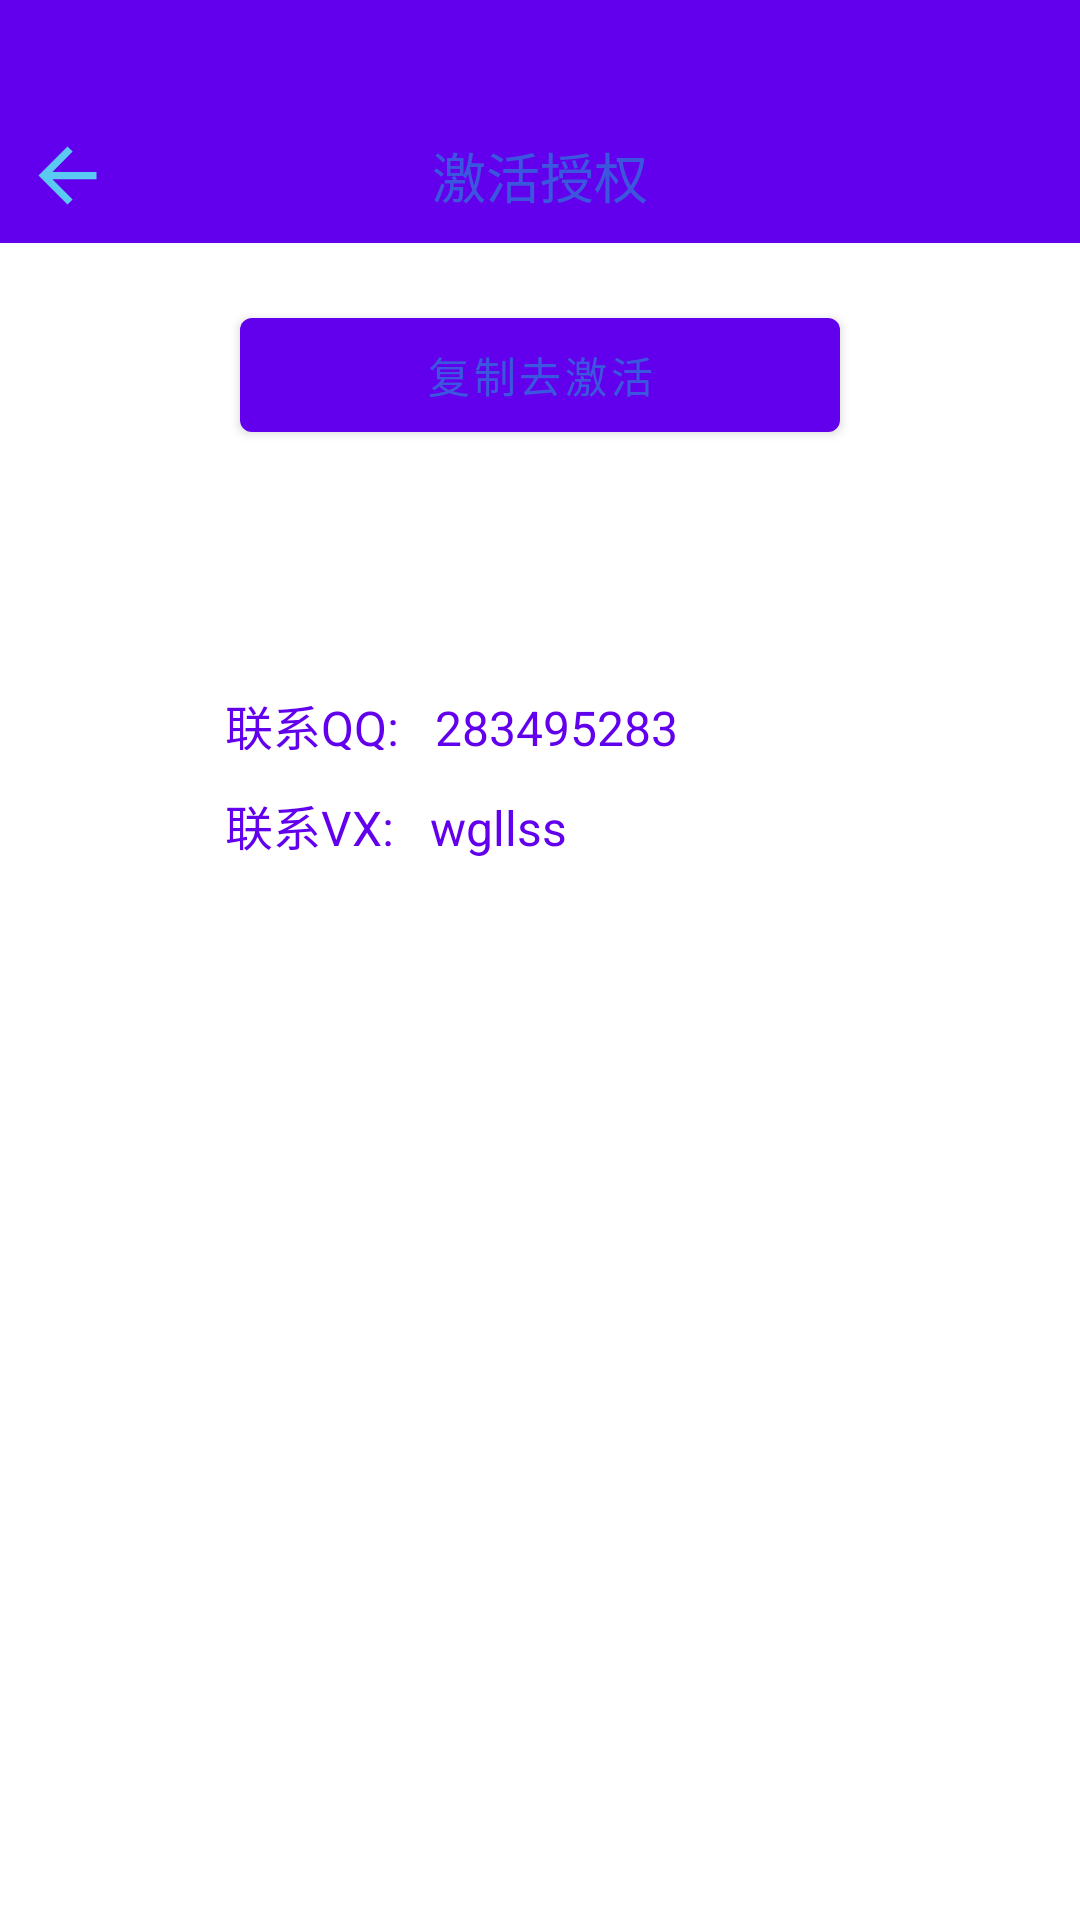

Screen size 1080x1920. Icon name, then its box in pixels as (x1,y1,x2,y2):
arrow back: (38,146,97,205)
